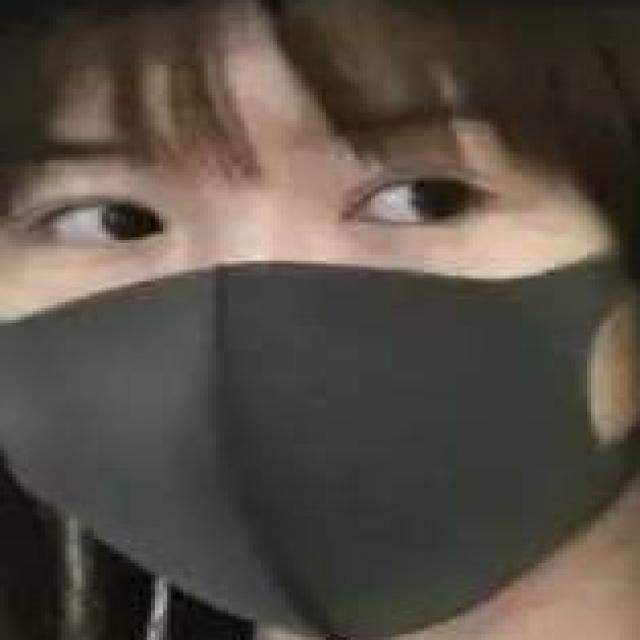suspicious-objects: (14, 175, 624, 628)
